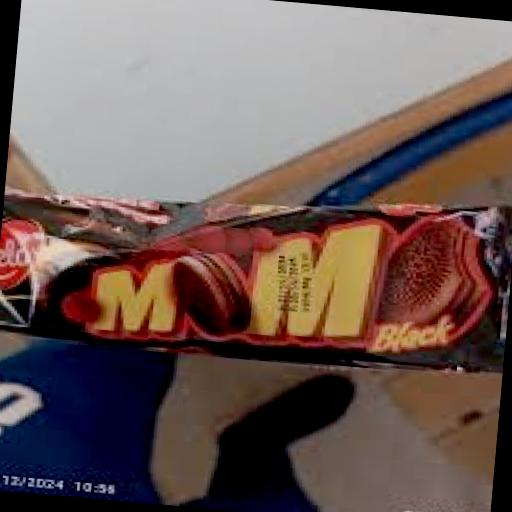MOMO: (0, 134, 512, 440)
